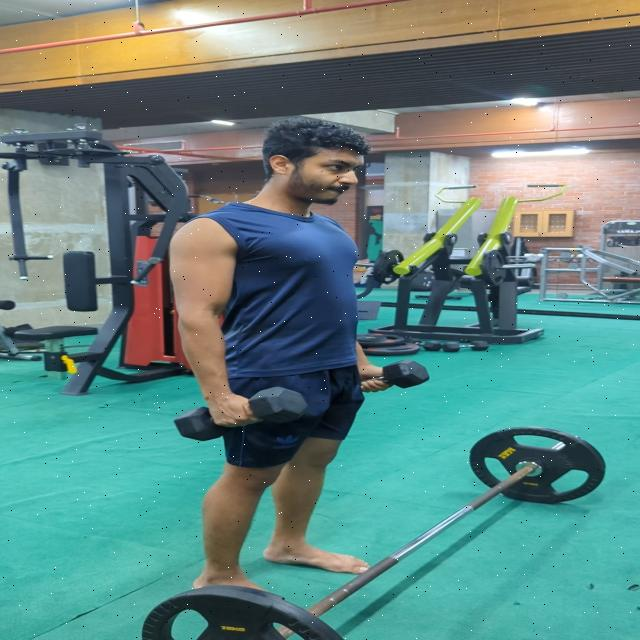Normal_DumbbellBicepCurls: (163, 115, 425, 596)
